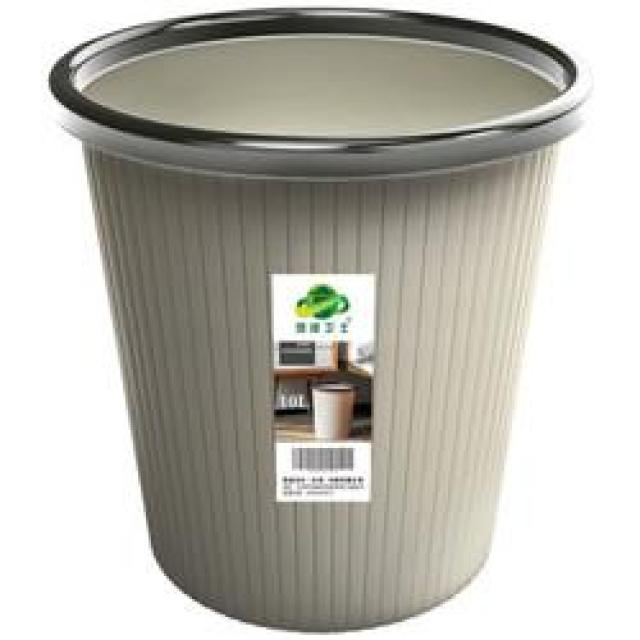dustbin: (41, 0, 602, 638)
